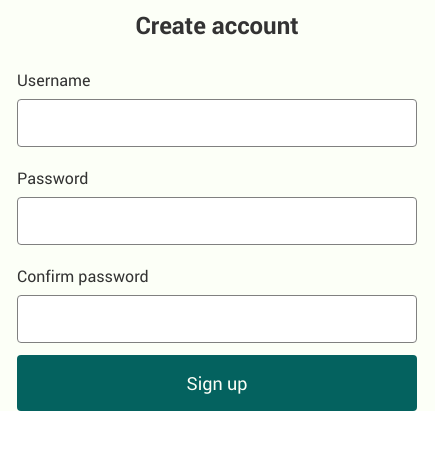
it: Confirm password input with invalid input
In the password field labelled "Password": (217, 221) [17, 197, 417, 245], type "Password123"
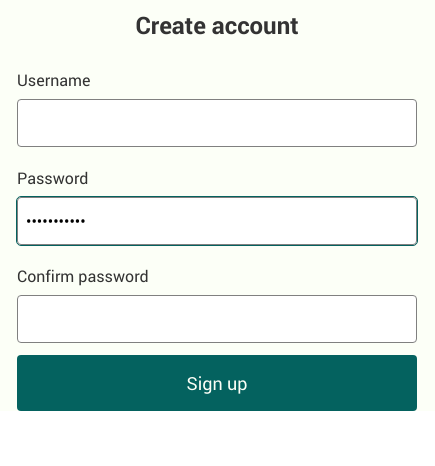
In the password field labelled "Confirm password": (217, 319) [17, 295, 417, 343], type "password123"
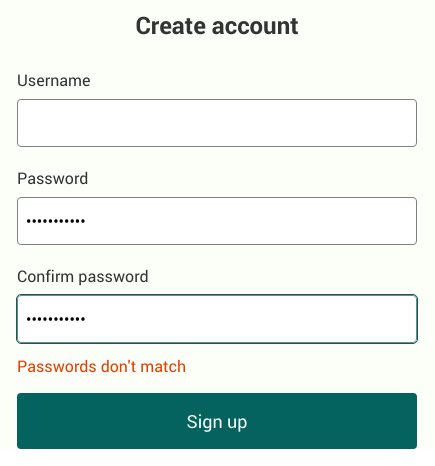
expect the text "Passwords don't match" is shown: met, box [17, 355, 186, 377]
